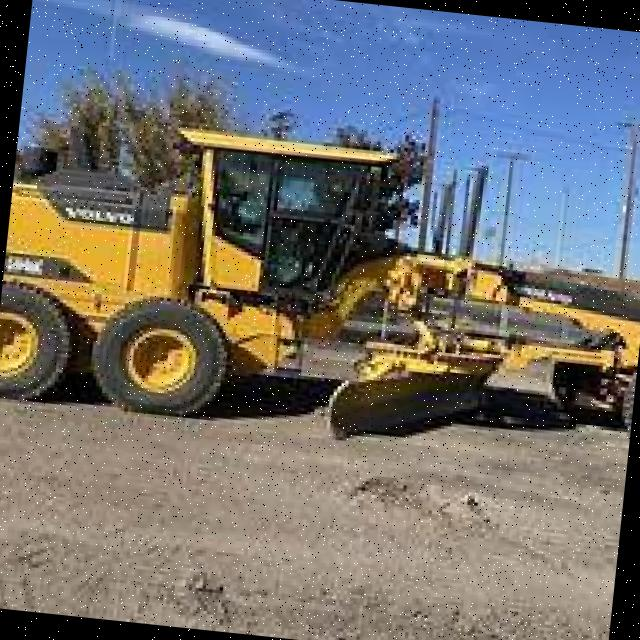Grader: (0, 88, 640, 476)
